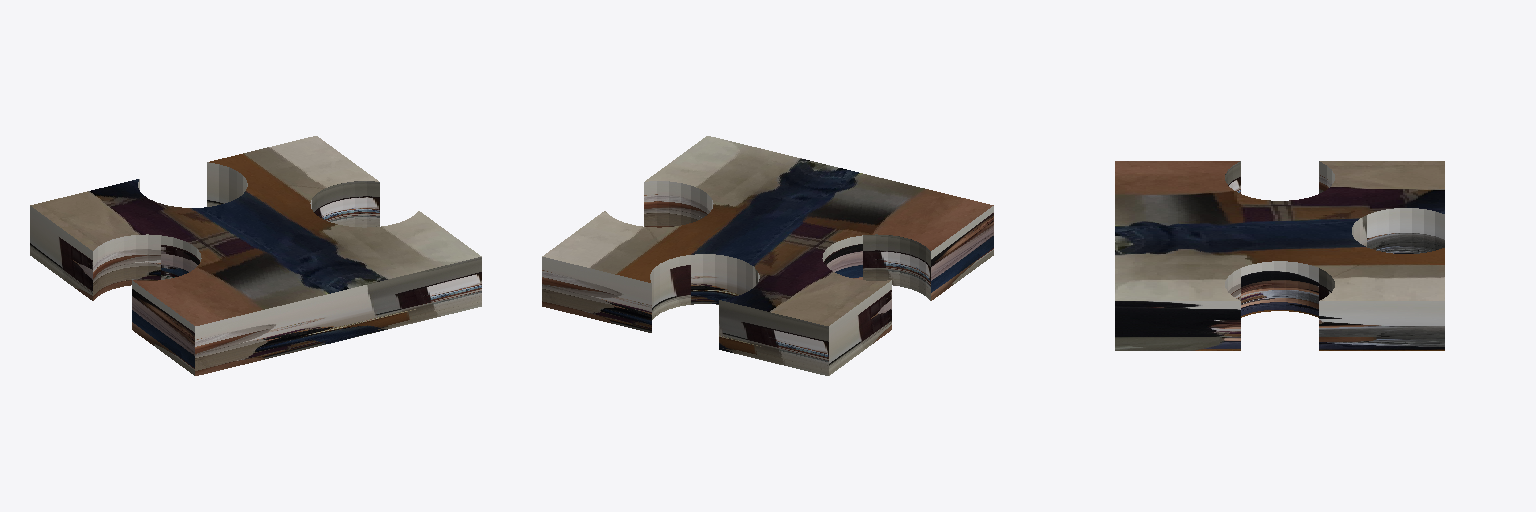
3 views of the same model, side by side, from view 1: azimuth 30°, elevation 25°; view 2: azimuth 150°, elevation 25°; view 3: azimuth 270°, elevation 25° (orthographic).
Parts seen in each view (by area): view 1: ͼ��015; view 2: ͼ��015; view 3: ͼ��015.
Boxes of the visible parts, <box> form: ͼ��015: <box>30,136,481,375</box>; ͼ��015: <box>542,136,993,375</box>; ͼ��015: <box>1115,161,1444,350</box>.
Bounding box in the file's own units: 30 × 5 × 30.
1 materials, 1 textured.